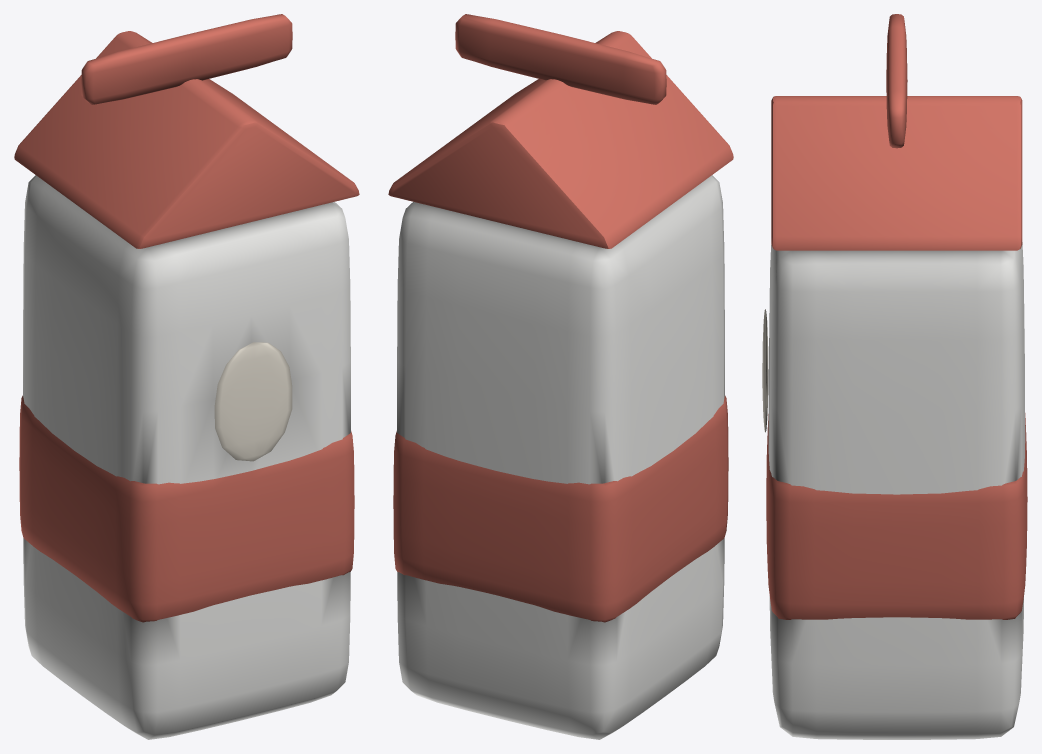
File: food_milk.glb
3 renders of one model, left to right at view 1: azimuth 30°, elevation 25°; view 2: azimuth 150°, elevation 25°; view 3: azimuth 270°, elevation 25°, orthographic.
Parts seen in each view (by area): view 1: PART; view 2: PART; view 3: PART.
Boxes of the visible parts, left/top/right/bottom form: PART: left=14, top=14, right=359, bottom=739; PART: left=388, top=14, right=733, bottom=739; PART: left=762, top=14, right=1027, bottom=739.
Size of the model in its own units: 0.0707 by 0.1916 by 0.0718.
